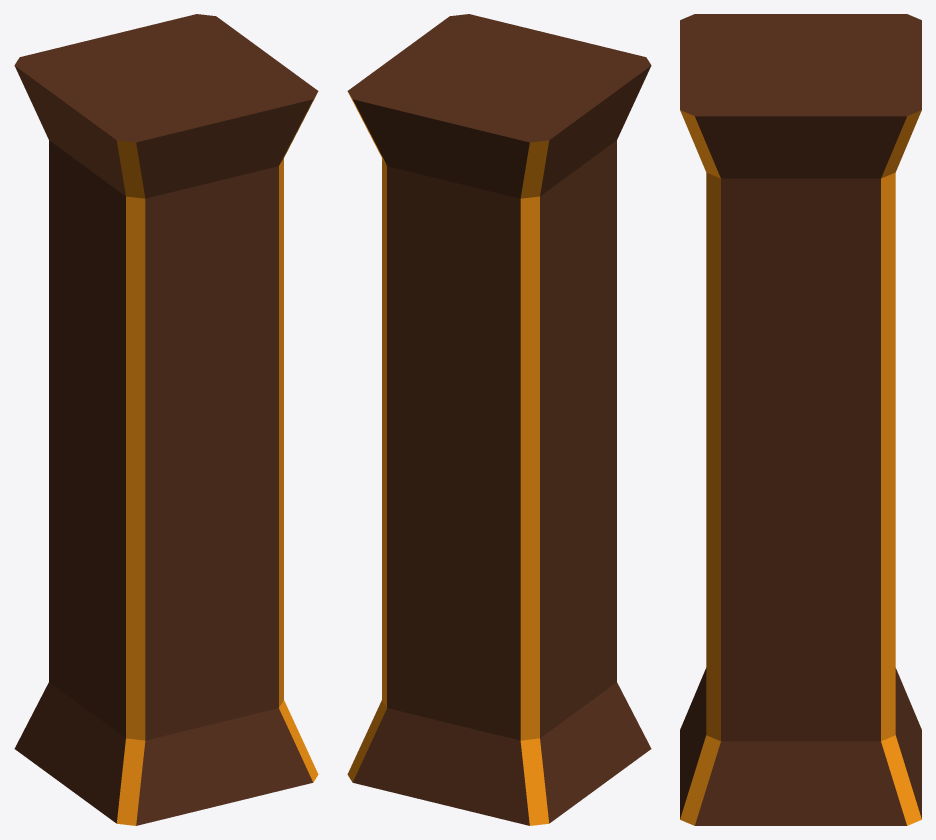
The model's file is pillar.fbx.
3 views of the same model, side by side, from view 1: azimuth 30°, elevation 25°; view 2: azimuth 150°, elevation 25°; view 3: azimuth 270°, elevation 25° (orthographic). The views are drawn at different scales.
Visible parts, largest first — view 1: pillar; view 2: pillar; view 3: pillar.
Part boxes in pixels (x1,y1,x2,y2): pillar: (14, 14, 318, 825); pillar: (347, 14, 651, 825); pillar: (680, 14, 921, 825).
Size of the model in its own units: 83.43 by 270 by 83.43.
